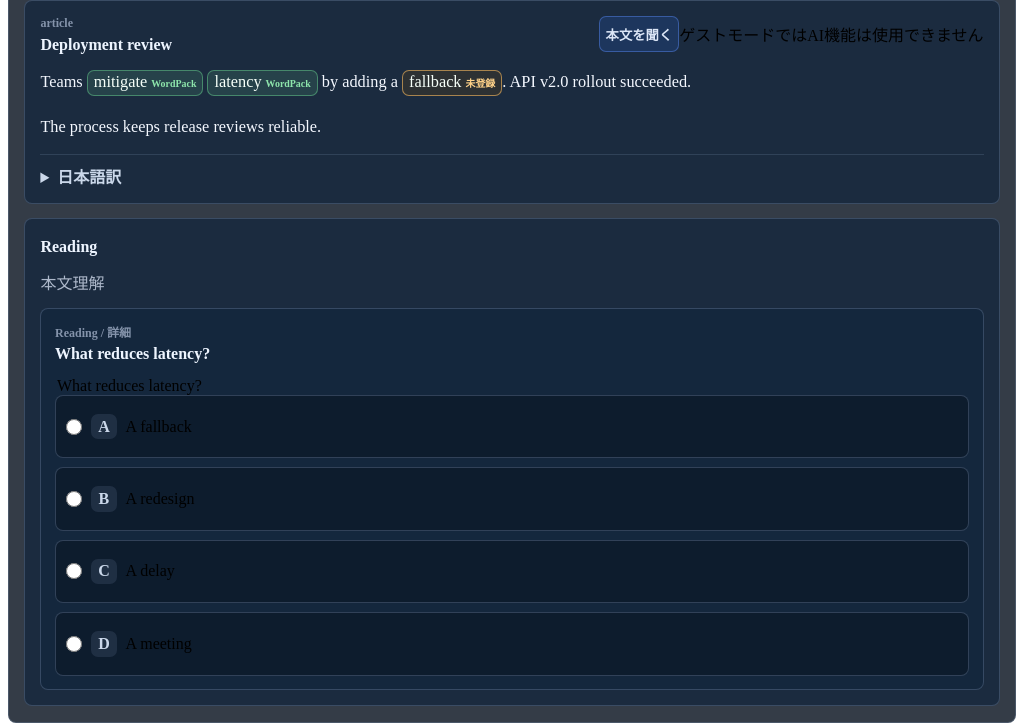
Test: QuizPage › loads a saved quiz and lets guests grade locally without saving attempts
The width and height of the screenshot is (1024, 728).
(page scrolled)
Click the radio button labelled "A A fallback": x=74, y=427 left=66, top=419, right=82, bottom=435
(page scrolled)
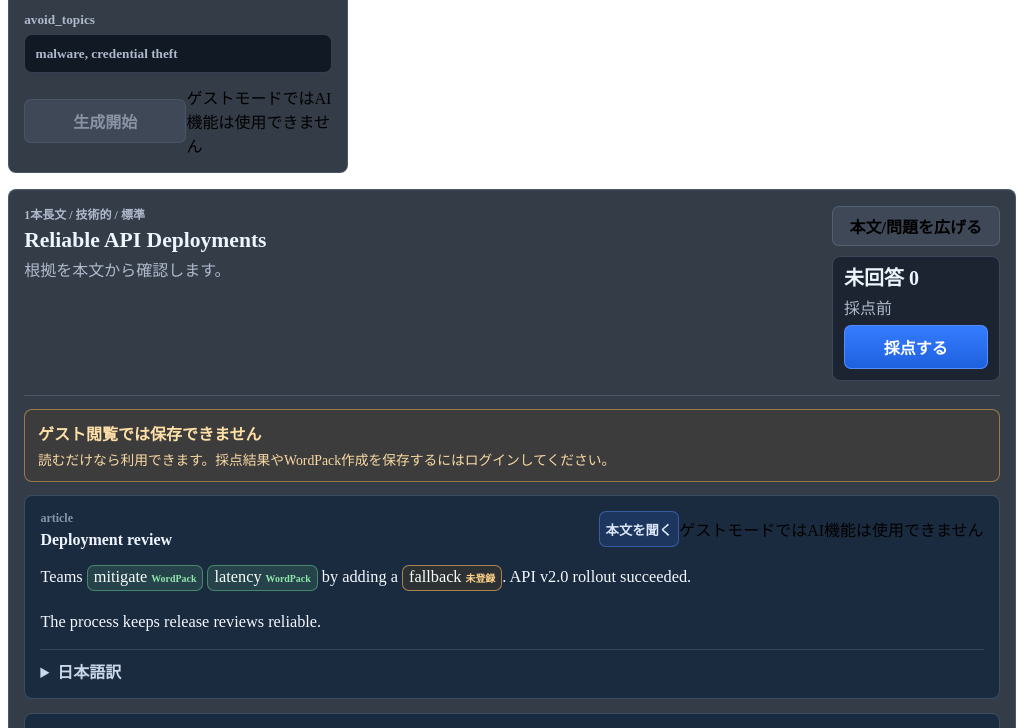
Click the button "採点する": x=916, y=347 left=844, top=325, right=988, bottom=369
(page scrolled)
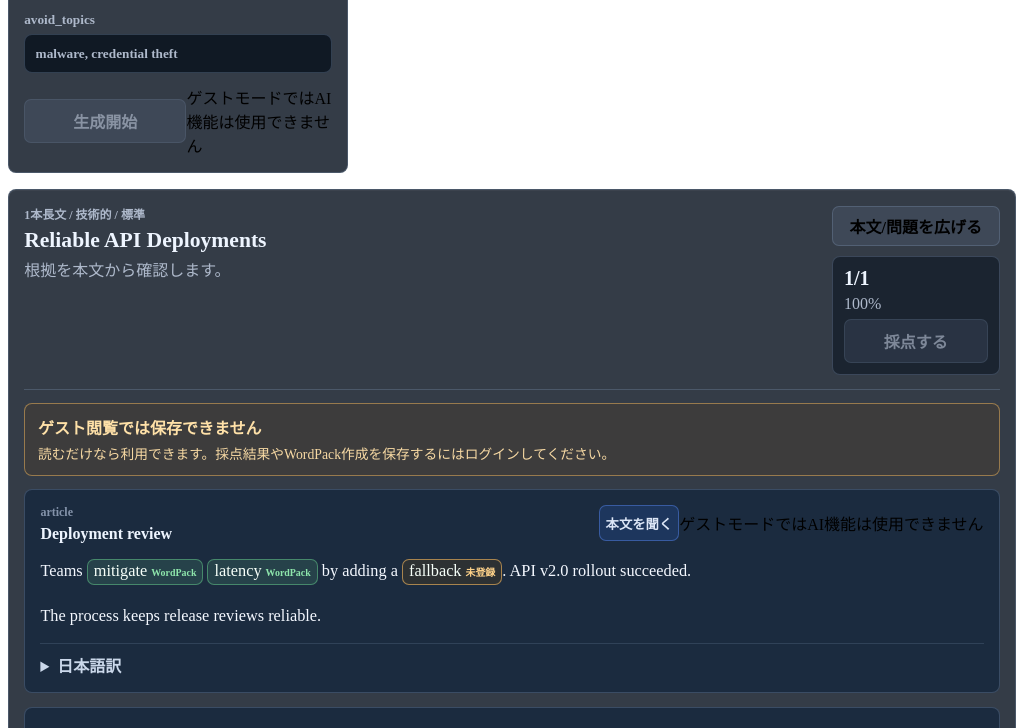
Expected: the button with aria-label "mitigate のWordPack操作を開く" is enabled, left=87, top=559, right=203, bottom=585
Expected: the text "1/1" is shown, left=844, top=268, right=870, bottom=290
